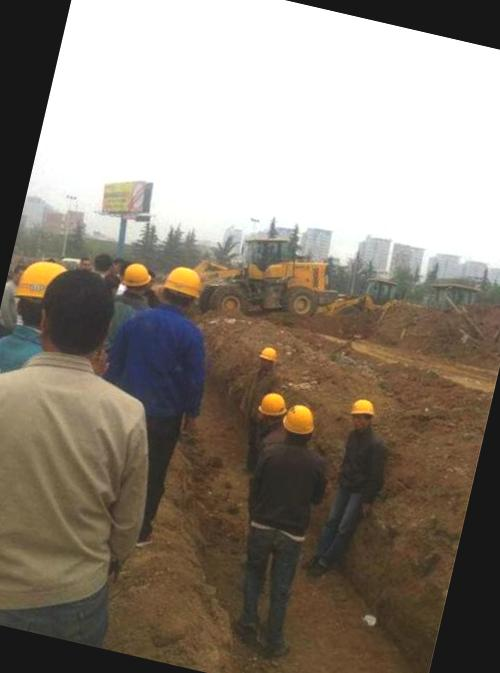no_helmet: (26, 260, 116, 369), (91, 248, 114, 274)
